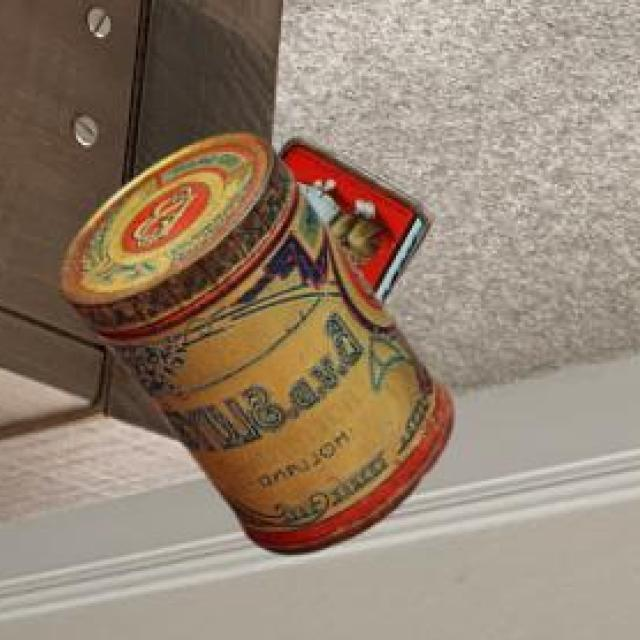logam: (56, 137, 450, 558), (275, 142, 427, 307)
